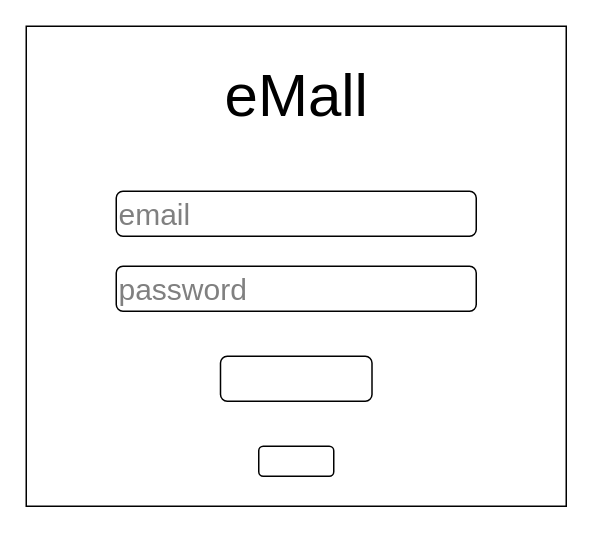
This 593x533 diagram has some shape labels left out. Each missing label, with the box of its shape:
Login: (219, 355, 372, 401)
Sign up: (257, 445, 334, 476)
